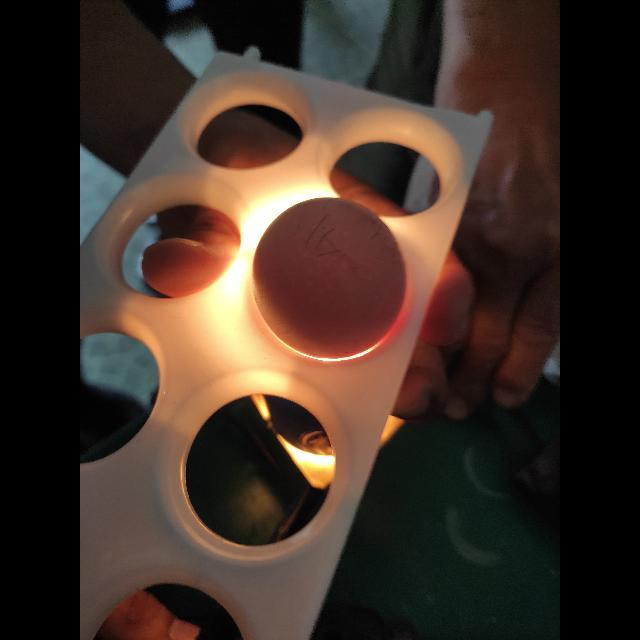Fertile: (250, 189, 414, 365)
